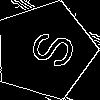S: (20, 25, 77, 72)
